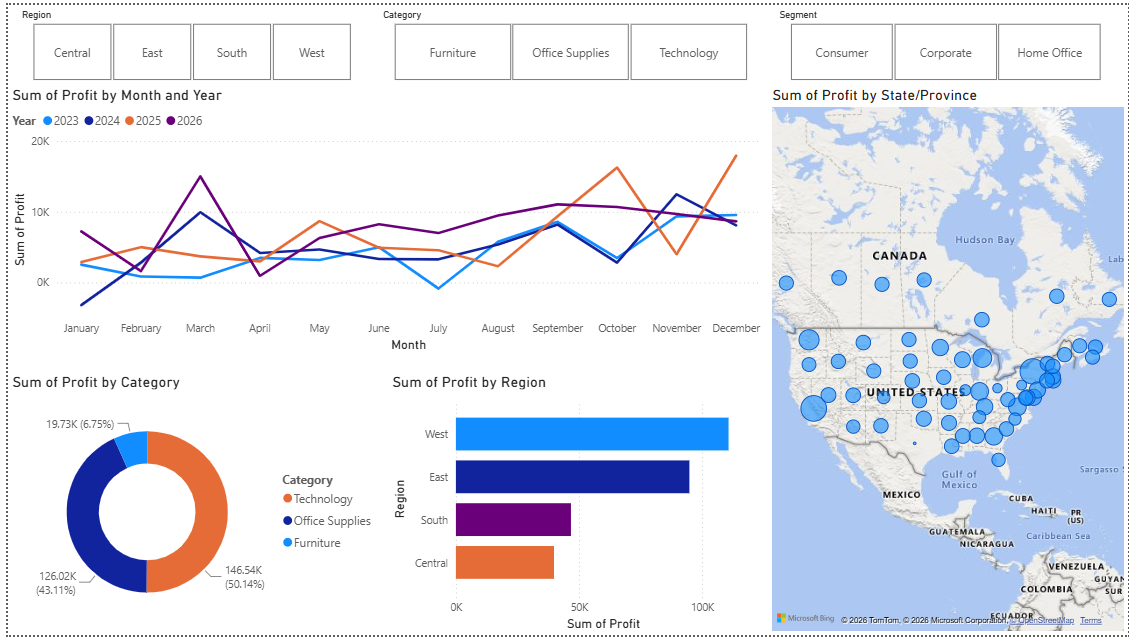

The dashboard page shown, as its layout file describes it:
{"tool":"powerbi","page":{"name":"Page 1","canvas":[1280,720],"ordinal":0},"visuals":[{"type":"textbox","box":[0,0,1280.3,65.9],"z":0},{"type":"cardVisual","fields":{"Data":["Sum(Orders.Profit)","Sum(Orders.Quantity)","CountNonNull(Orders.Row ID)","Sum(Orders.Sales)","Sum(Orders.Discount)"]},"box":[0,65.9,1280.3,104.3],"z":1000},{"type":"actionButton","box":[0,0,100,40],"z":2000},{"type":"donutChart","fields":{"Y":["Sum(Orders.Sales)"],"Category":["Orders.Region"]},"box":[0,437,356,282],"z":3000},{"type":"columnChart","fields":{"Y":["Sum(Orders.Sales)"],"Category":["Orders.Sub-Category"],"Series":["Orders.Category"]},"box":[356,437,490,282],"z":4000},{"type":"clusteredBarChart","fields":{"Y":["Sum(Orders.Profit)"],"Category":["Orders.Region"]},"box":[846,437,434,282],"z":5000},{"type":"lineChart","fields":{"Y":["Sum(Orders.Sales)"],"Category":["Orders.Order Date.Variation.Date Hierarchy.Year","Orders.Order Date.Variation.Date Hierarchy.Quarter","Orders.Order Date.Variation.Date Hierarchy.Month","Orders.Order Date.Variation.Date Hierarchy.Day"]},"box":[0,247,1280.3,177],"z":6000},{"type":"slicer","fields":{"Values":["Orders.Region"]},"box":[0,164.7,413,82.3],"z":7000},{"type":"slicer","fields":{"Values":["Orders.Category"]},"box":[413,170.2,452.8,76.8],"z":8000},{"type":"slicer","fields":{"Values":["Orders.Segment"]},"box":[875.5,170.2,404.8,76.8],"z":9000}]}

Visuals, with their boxes in screenshot pixels (x1, y1, x2, y2), scaled from the page's 1280x720 canvas onto the 1132x640 screenshot:
textbox: l=0, t=0, r=1131, b=59
cardVisual - Sum(Orders.Profit) x Sum(Orders.Quantity): l=0, t=59, r=1131, b=151
actionButton: l=0, t=0, r=88, b=36
donutChart - Sum(Orders.Sales) x Orders.Region: l=0, t=388, r=315, b=639
columnChart - Sum(Orders.Sales) x Orders.Sub-Category: l=315, t=388, r=748, b=639
clusteredBarChart - Sum(Orders.Profit) x Orders.Region: l=748, t=388, r=1131, b=639
lineChart - Sum(Orders.Sales) x Orders.Order Date.Variation.Date Hierarchy.Year: l=0, t=220, r=1131, b=377
slicer - Orders.Region: l=0, t=146, r=365, b=220
slicer - Orders.Category: l=365, t=151, r=766, b=220
slicer - Orders.Segment: l=774, t=151, r=1131, b=220
